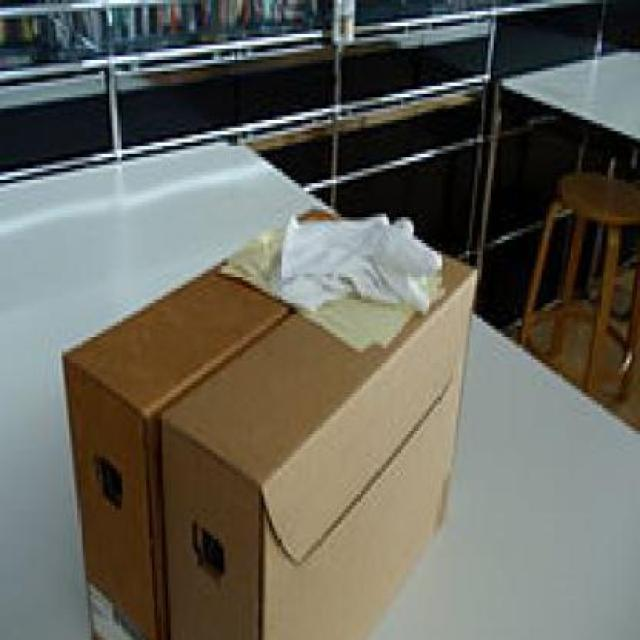box: (154, 246, 495, 640), (52, 194, 346, 640)
